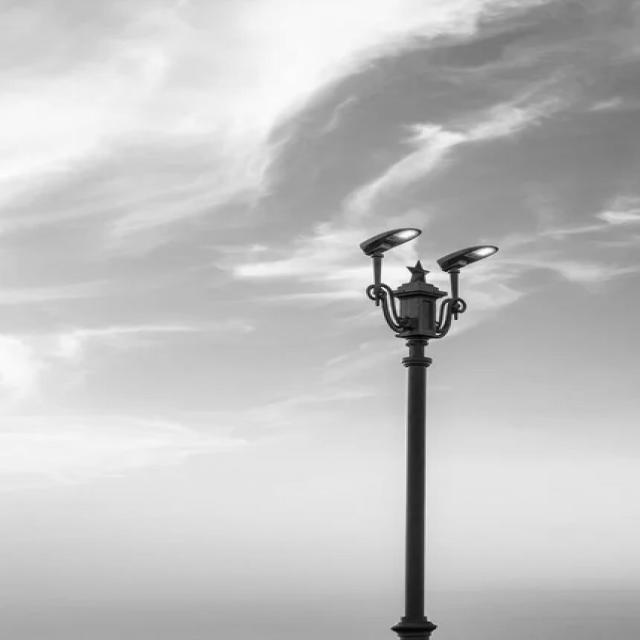Pole: (393, 339, 436, 640)
